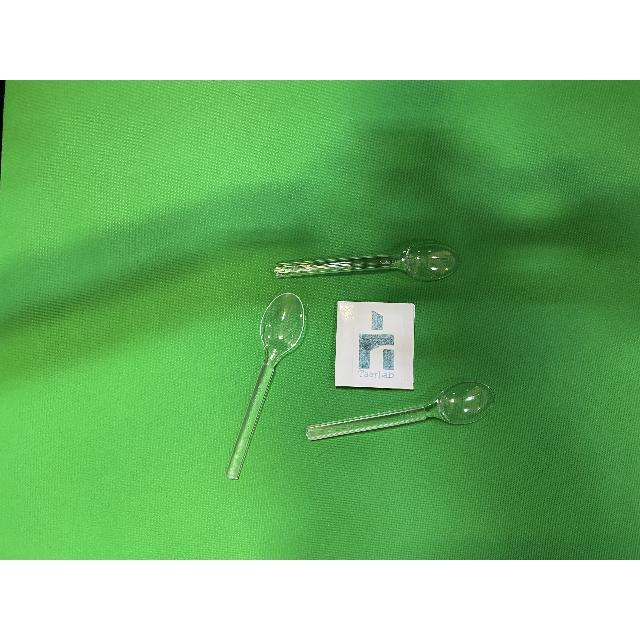Plastico descartable: (227, 294, 307, 481), (306, 382, 489, 442), (275, 241, 458, 283)
